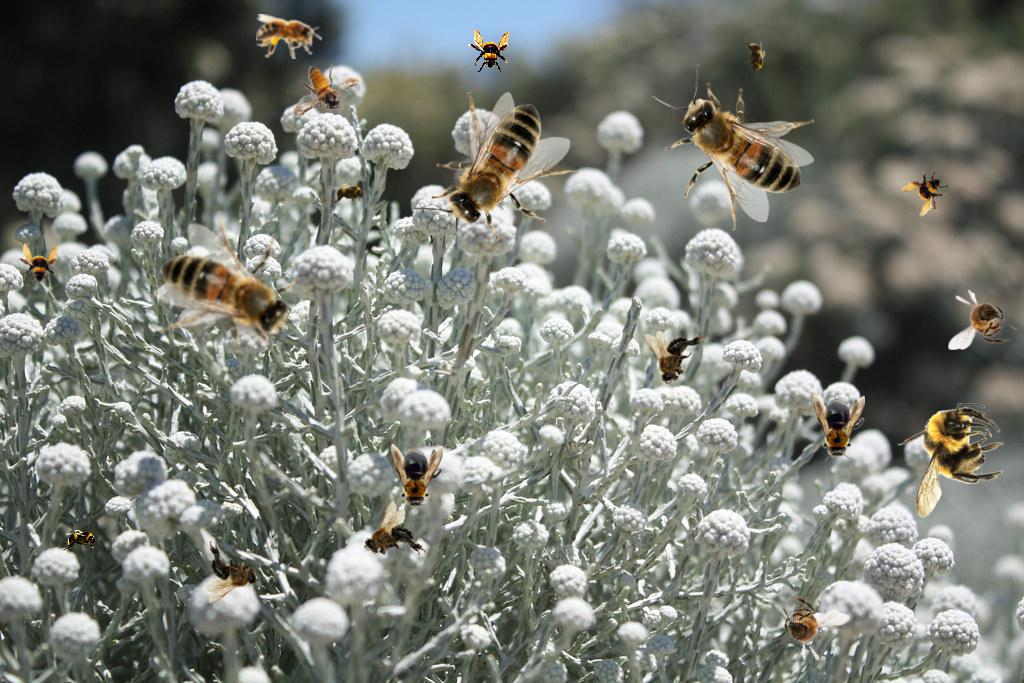Bee: (140, 195, 329, 389), (412, 92, 579, 254), (652, 64, 814, 231), (897, 403, 1004, 518), (760, 583, 851, 671), (351, 498, 430, 580), (288, 61, 364, 118), (948, 289, 1018, 350), (896, 160, 960, 224), (813, 394, 865, 462), (391, 444, 443, 512), (643, 330, 706, 386), (206, 541, 259, 603), (256, 14, 322, 59), (467, 29, 511, 73), (16, 243, 60, 287), (744, 38, 766, 78), (330, 183, 370, 205), (62, 529, 102, 551)
